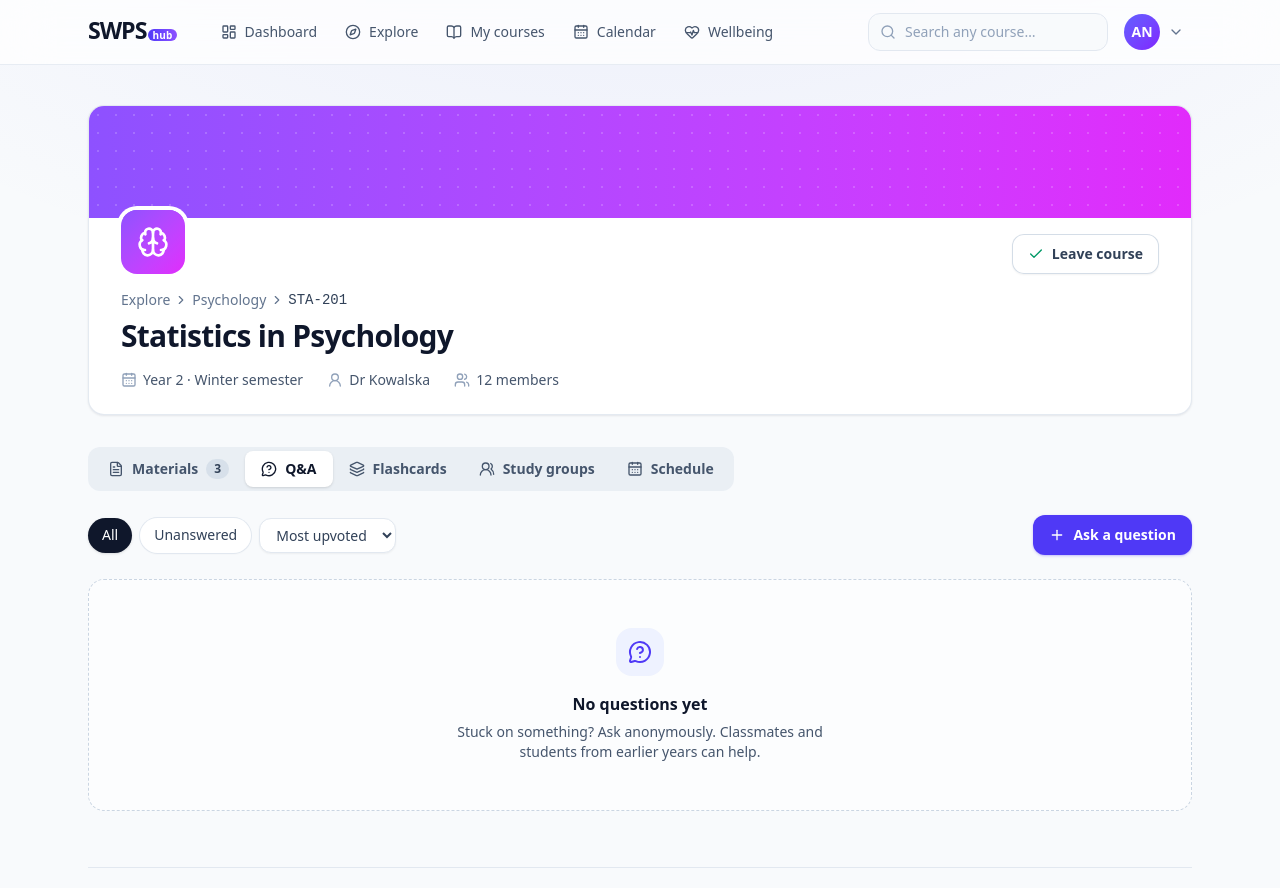
Scenario: Course Q&A › lets a student ask anonymously and shows the question in the list
Expected: the text "No questions yet" is shown, [572,693,708,715]
Click the button "Ask a question" at (1113, 535), box [1034,515,1192,555]
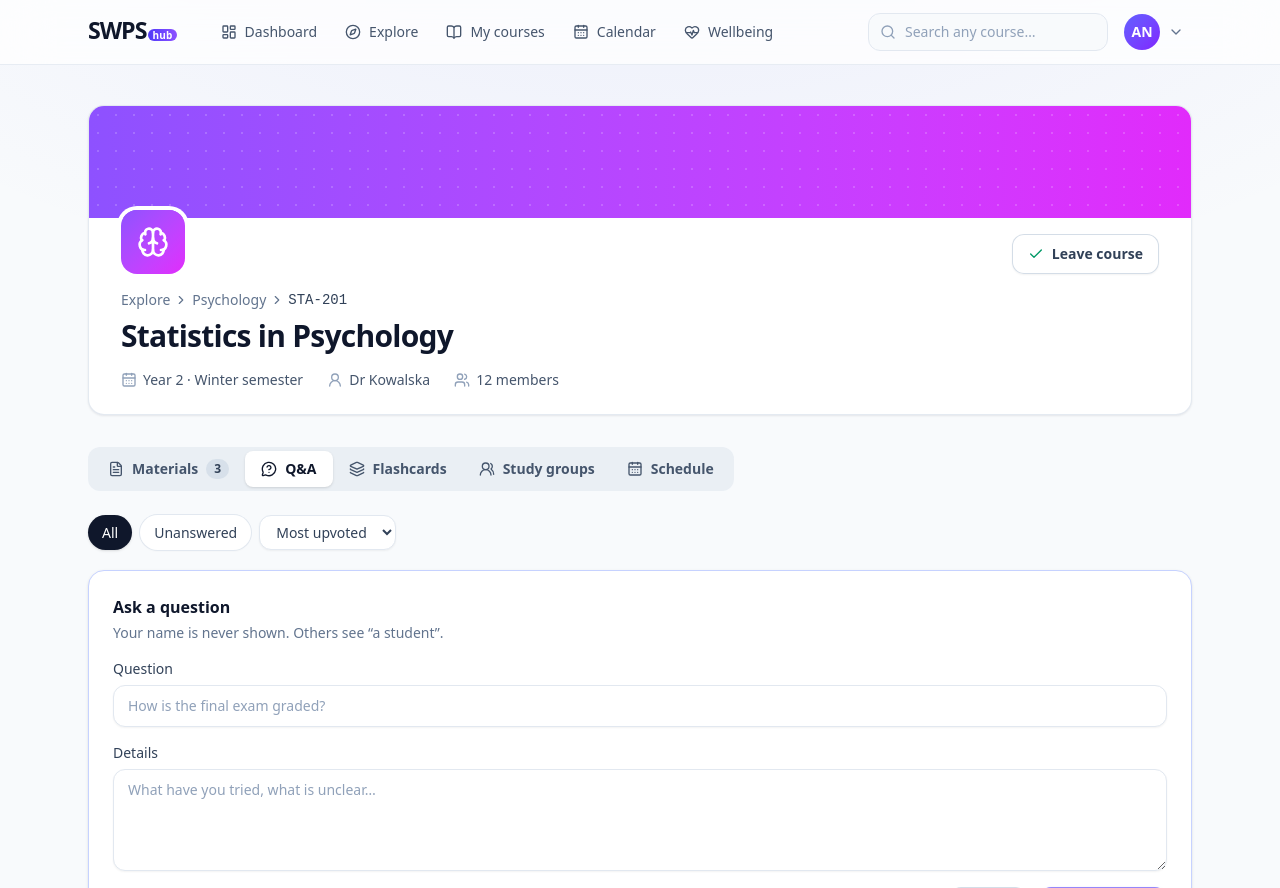
Type "When is the retake?" into the field labelled "Question" at (640, 706), box [113,685,1167,727]
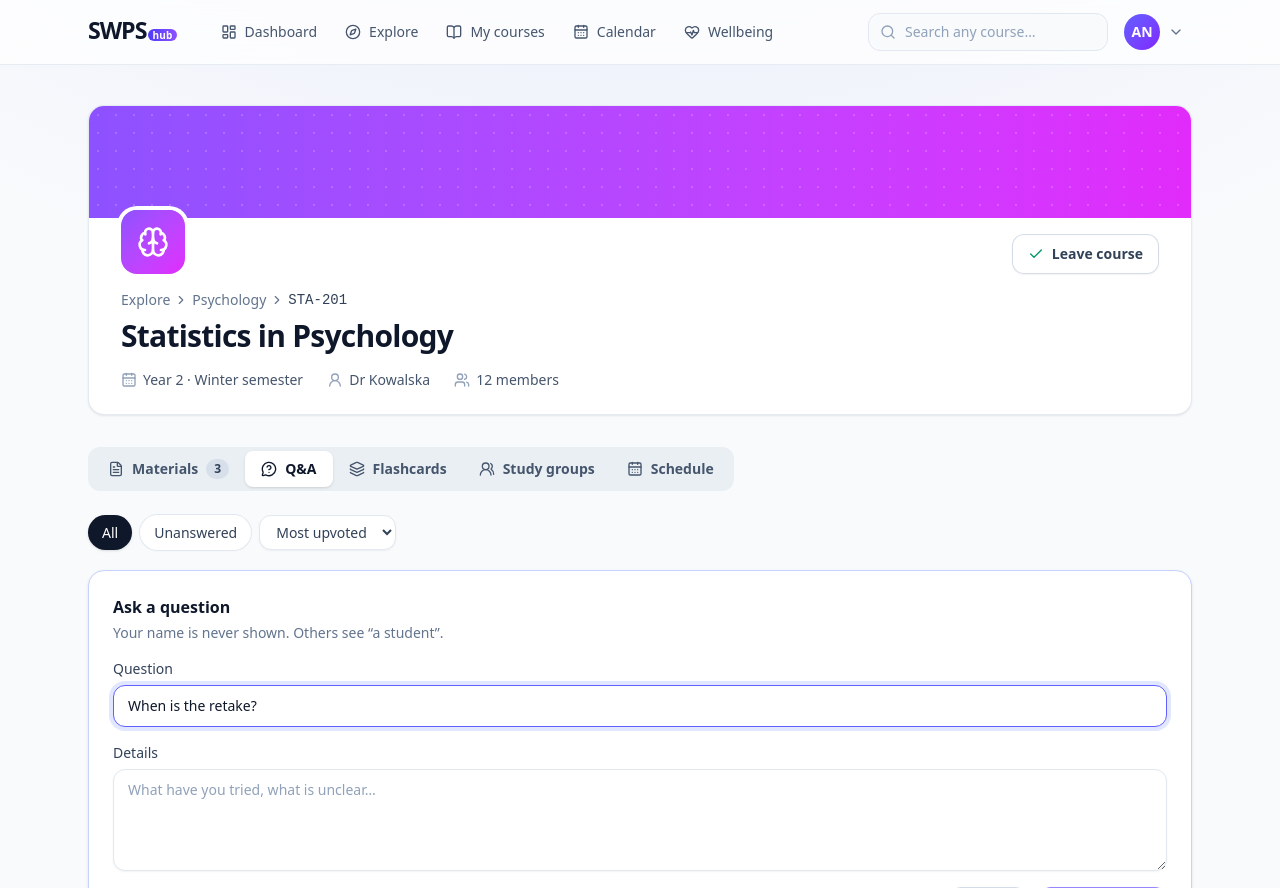
Type "I missed the first date." into the text box labelled "Details" at (640, 820), box [113,769,1167,871]
(page scrolled)
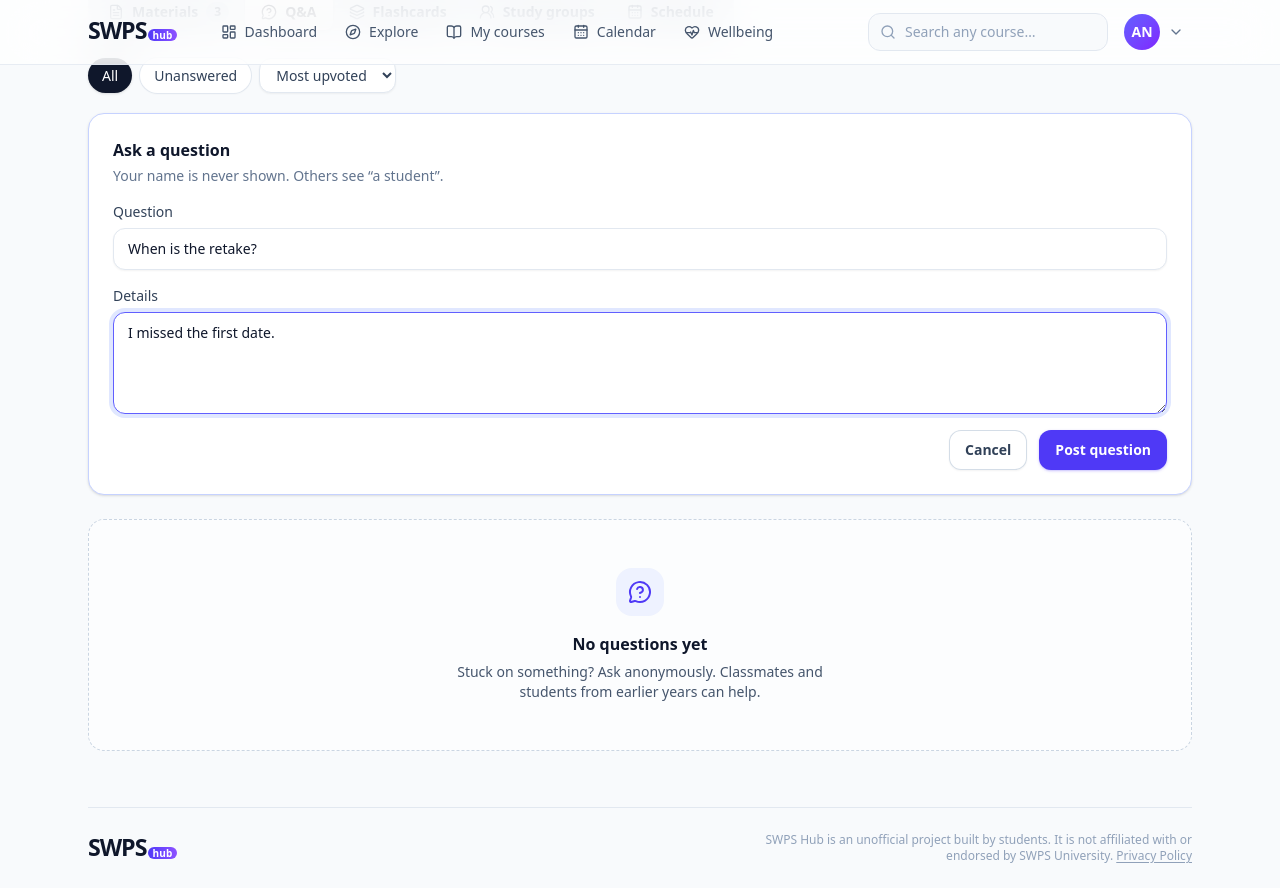
Click the button "Post question" at (1103, 450), box [1039,430,1167,470]
(page scrolled)
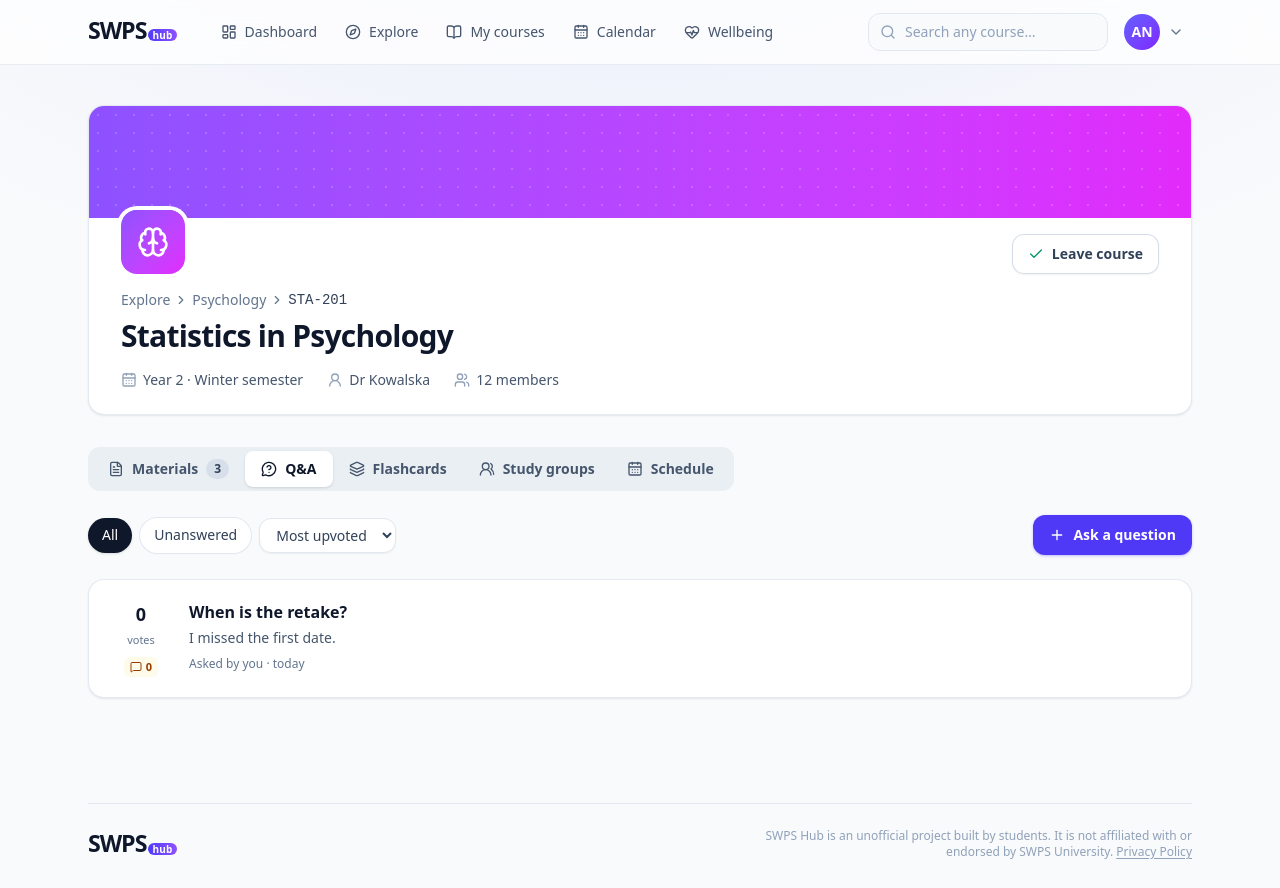
Expected: the link "When is the retake?" shows "Asked by you", [88,579,1192,698]
